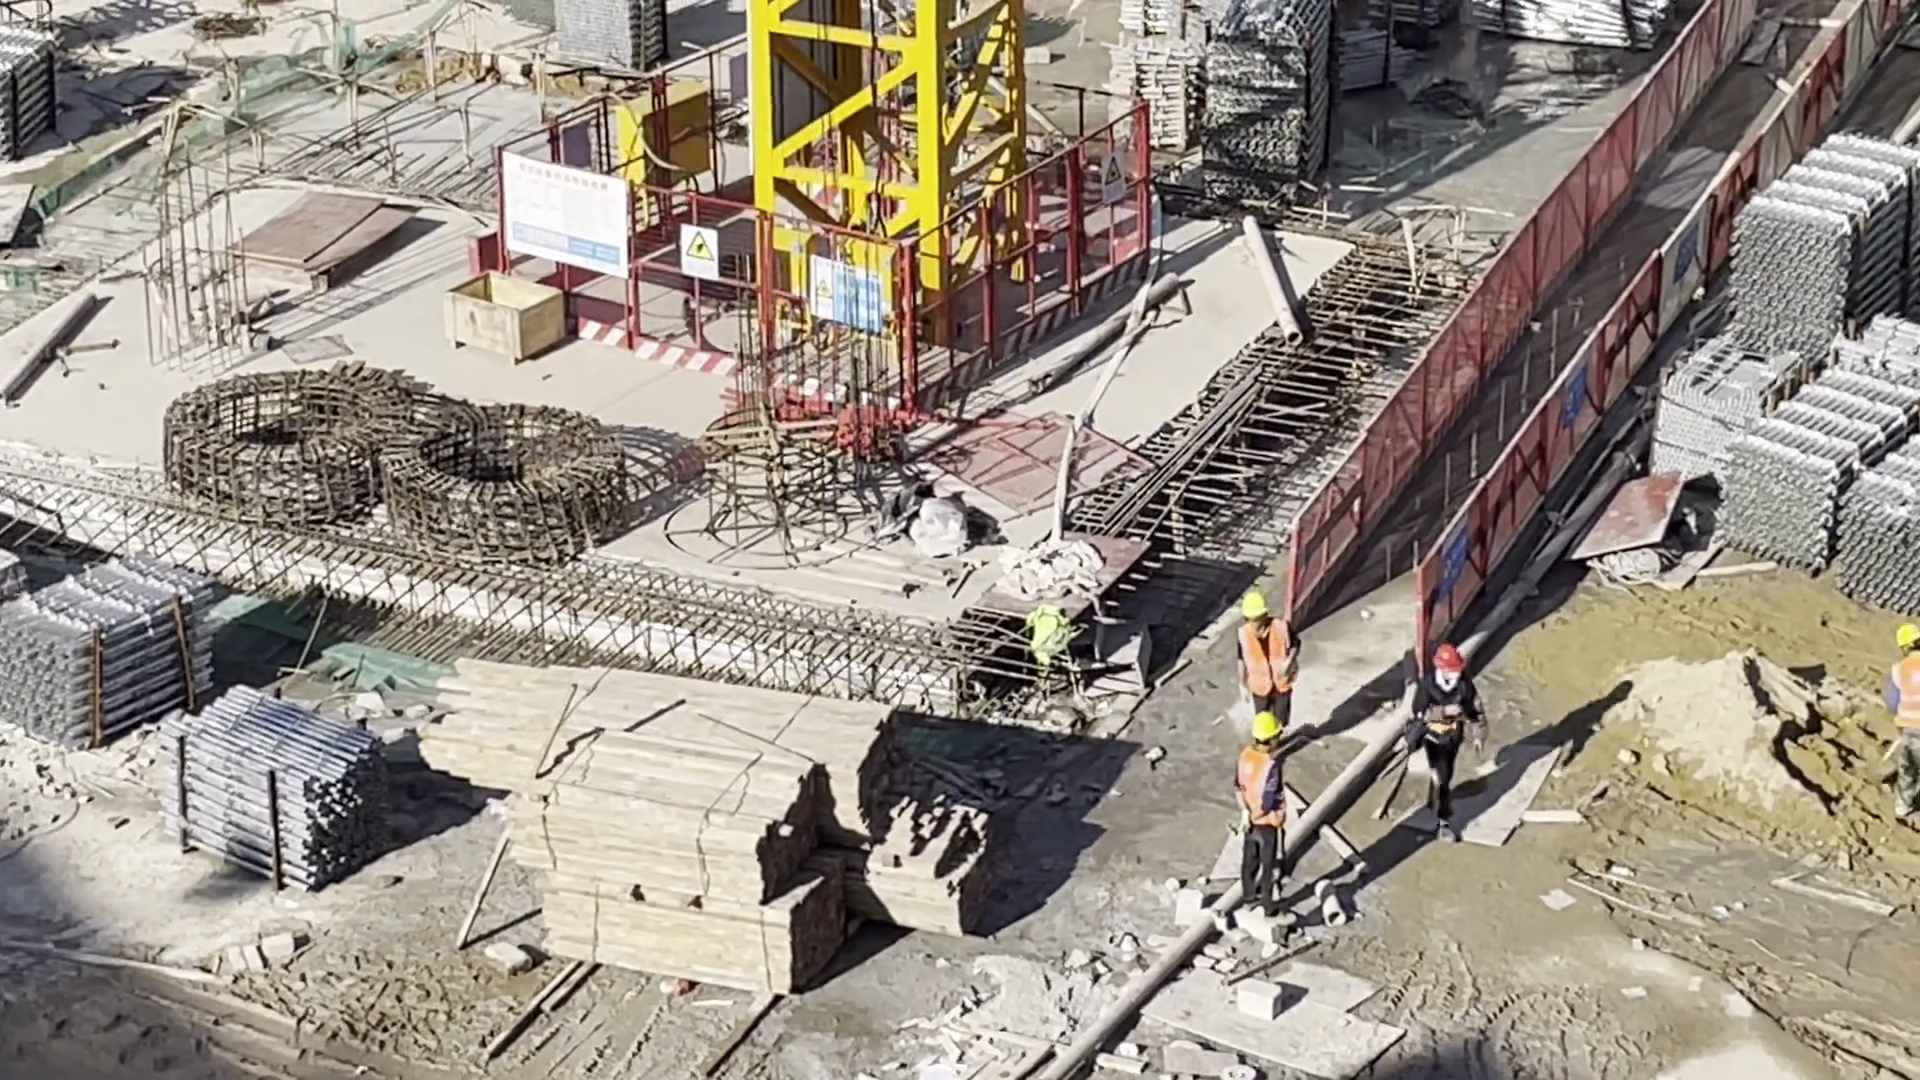board: (236, 191, 416, 277)
ebox: (615, 81, 712, 191)
fence: (1285, 4, 1889, 626)
helmet: (1251, 714, 1283, 739), (1433, 646, 1467, 670), (1241, 594, 1269, 618), (1894, 626, 1920, 646)
person: (1416, 646, 1483, 843), (1237, 714, 1283, 918), (1883, 627, 1920, 831), (1239, 595, 1292, 724)
scaffold: (1721, 356, 1920, 617), (162, 687, 396, 892), (1732, 133, 1916, 341), (1118, 1, 1335, 177), (1, 573, 208, 745), (1475, 1, 1669, 50), (560, 1, 669, 72), (1, 27, 58, 158)
slogan: (811, 258, 881, 337), (1442, 518, 1470, 596), (678, 218, 715, 274), (1562, 360, 1588, 424), (1096, 153, 1125, 203)
vest: (1242, 627, 1290, 696), (1243, 753, 1279, 827), (1893, 661, 1920, 734)
wood: (458, 658, 896, 841), (538, 746, 843, 985)
